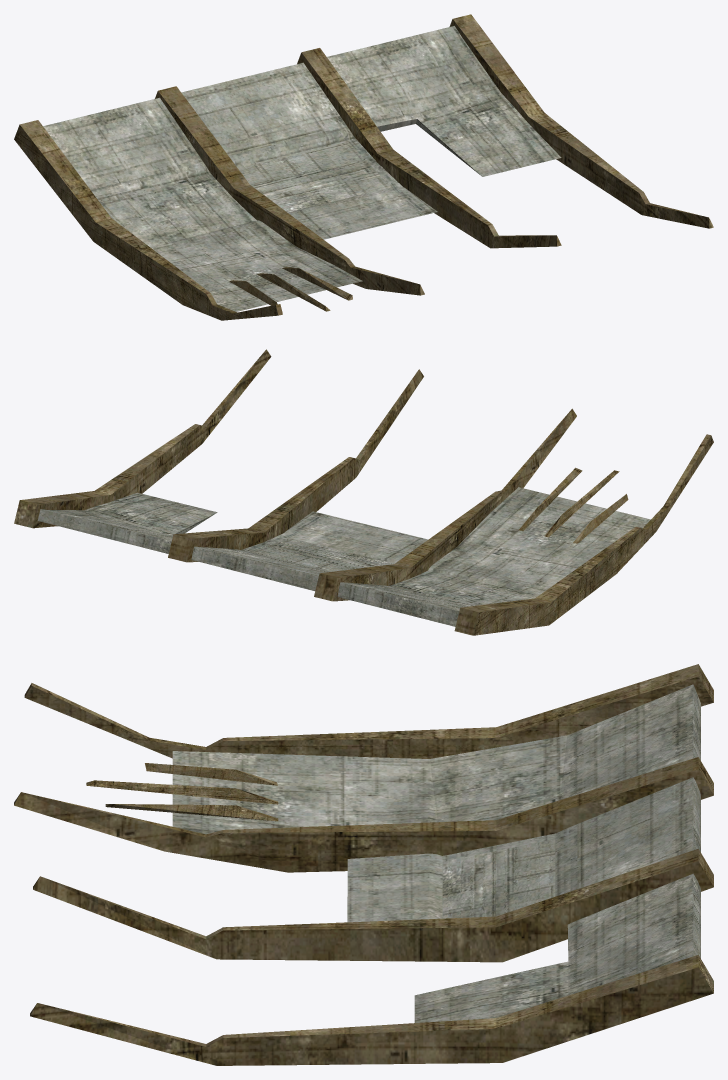
File: thm_prp_junk_s7_l1.fbx
The picture shows the model from 3 angles, top to bottom: view 1: azimuth 30°, elevation 25°; view 2: azimuth 150°, elevation 25°; view 3: azimuth 270°, elevation 25°; orthographic projection. The views are drawn at different scales.
Parts seen in each view (by area): view 1: mesh_node; view 2: mesh_node; view 3: mesh_node.
Part boxes in pixels (x1,y1,x2,y2): mesh_node: (14,14,713,320); mesh_node: (14,349,713,635); mesh_node: (14,664,713,1065).
Size of the model in its own units: 8.27 by 1.37 by 8.06.
